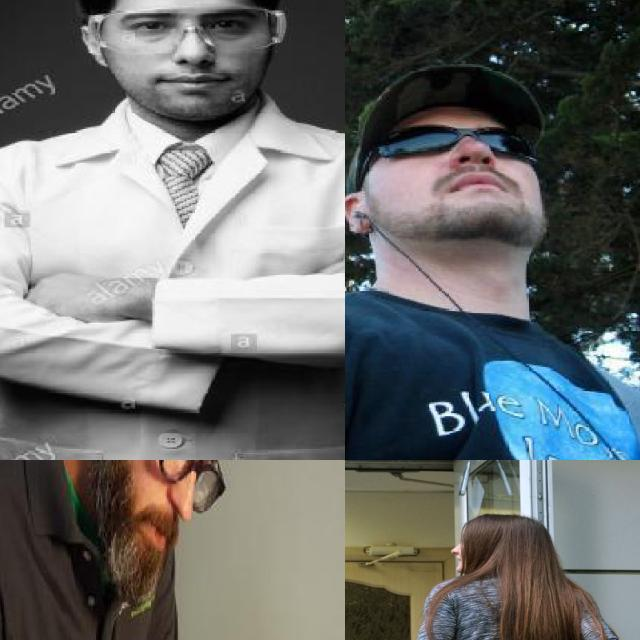face_nomask: (378, 125, 536, 208), (129, 16, 257, 105), (134, 460, 225, 573)
glasses: (83, 4, 294, 57), (362, 123, 551, 175), (114, 460, 225, 514)
head_nohelmet: (352, 66, 542, 137)
person: (0, 0, 345, 460), (345, 88, 640, 460), (0, 460, 262, 640)
